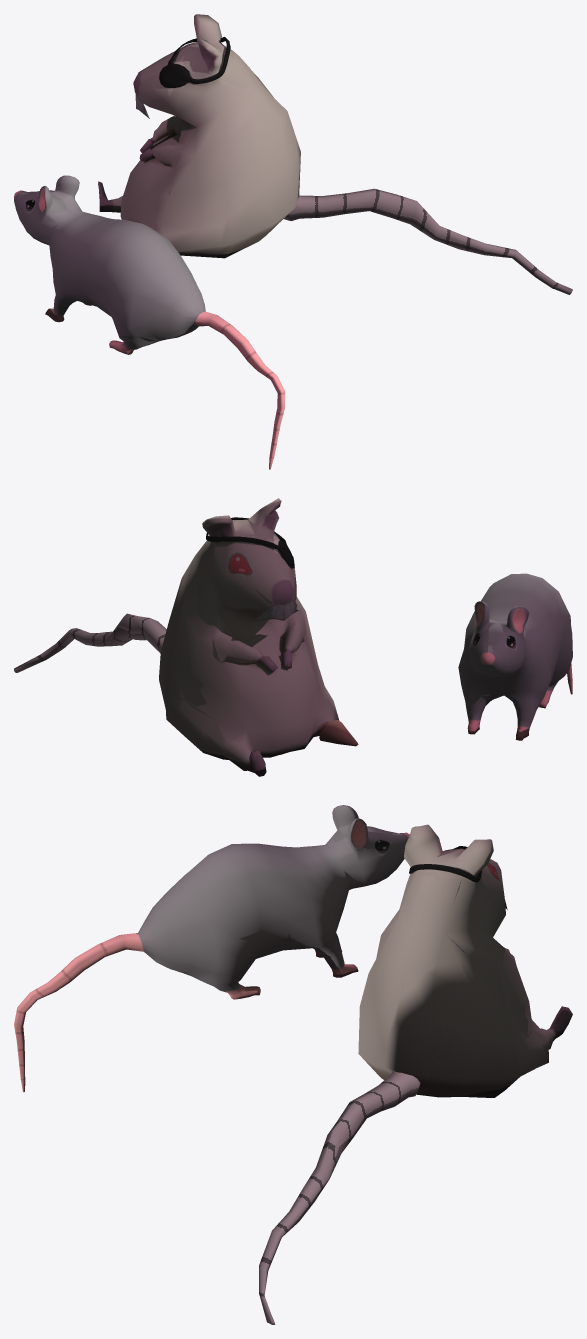
The model's file is rats_draco.glb.
3 renders of one model, top to bottom at view 1: azimuth 30°, elevation 25°; view 2: azimuth 150°, elevation 25°; view 3: azimuth 270°, elevation 25°, orthographic. The views are drawn at different scales.
Parts seen in each view (by area): view 1: elder rat, rat model.002, tail, EYEPATCH; view 2: elder rat, rat model.002, tail, EYEPATCH; view 3: elder rat, rat model.002, tail.
Boxes of the visible parts, x1,y1,x2,y2 form: elder rat: (98, 14, 300, 258); rat model.002: (14, 175, 284, 469); tail: (284, 188, 572, 294); EYEPATCH: (159, 37, 230, 87); elder rat: (159, 498, 358, 776); rat model.002: (458, 573, 572, 740); tail: (14, 613, 166, 672); EYEPATCH: (206, 517, 294, 568); elder rat: (358, 824, 572, 1097); rat model.002: (14, 805, 409, 1092); tail: (259, 1071, 420, 1324).
Size of the model in its own units: 0.9318 by 0.4924 by 0.7617.
Materials: 4 (4 with a texture image).
